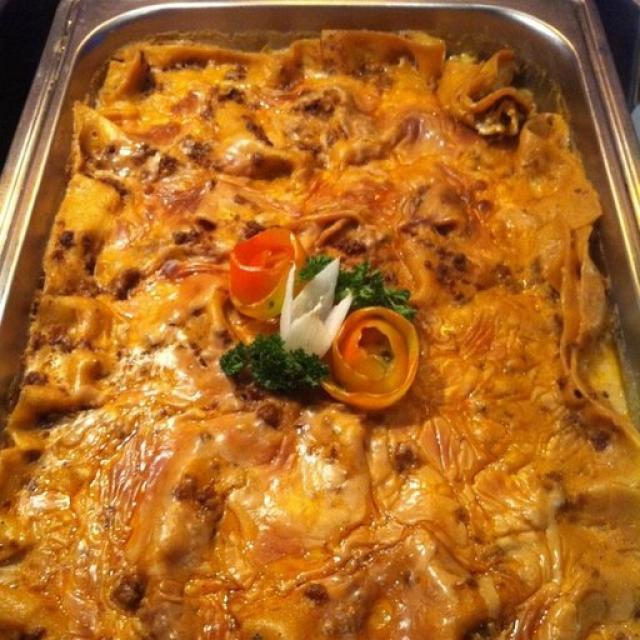Lasagna: (49, 35, 604, 619)
